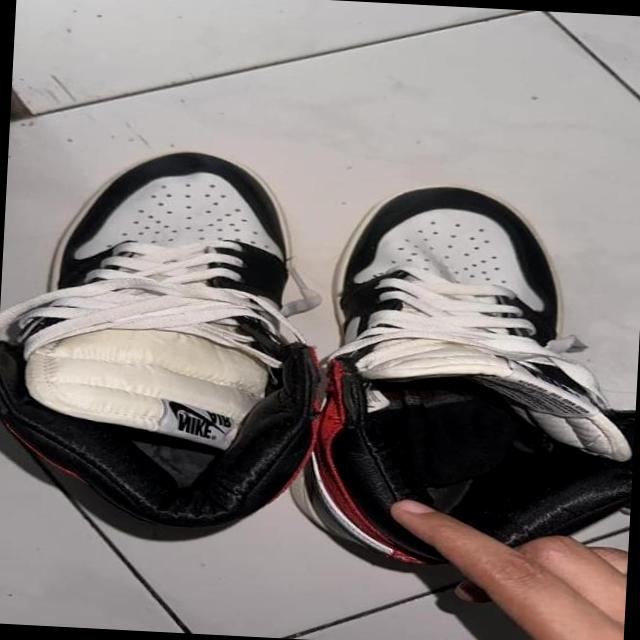nike_fake_jordan: (290, 175, 640, 579), (1, 139, 342, 532)
